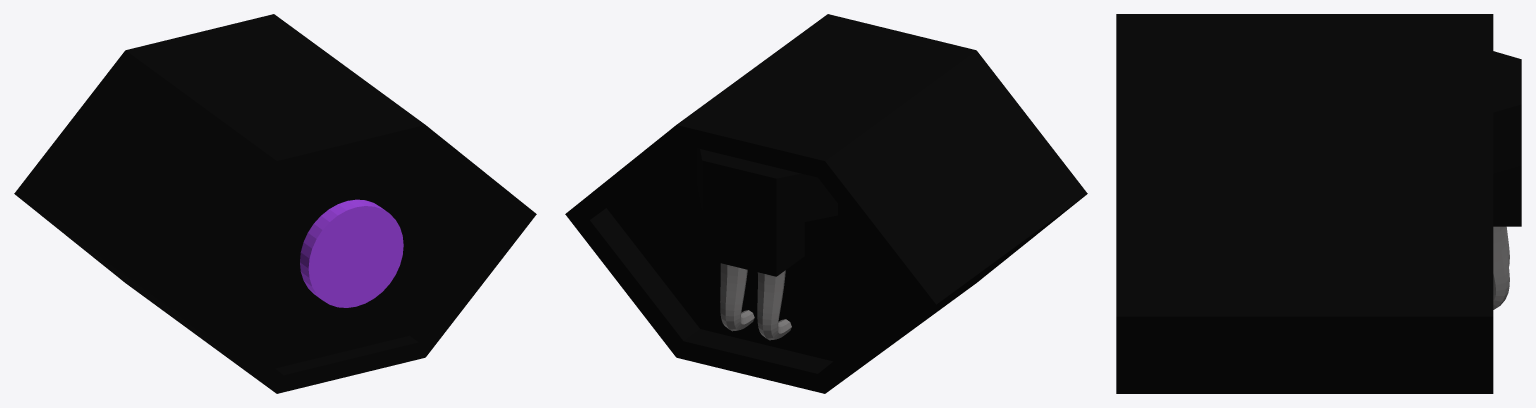
File: Medusa Bot (head).glb
3 renders of one model, left to right at view 1: azimuth 30°, elevation 25°; view 2: azimuth 150°, elevation 25°; view 3: azimuth 270°, elevation 25°, orthographic. The views are drawn at different scales.
Visible parts, largest first — view 1: Cube.008; view 2: Cube.008; view 3: Cube.008.
Part boxes in pixels (bbox=[...]): Cube.008: bbox=[14, 14, 536, 393]; Cube.008: bbox=[565, 14, 1087, 393]; Cube.008: bbox=[1116, 14, 1521, 393].
Size of the model in its own units: 0.4246 by 0.2544 by 0.3227.
